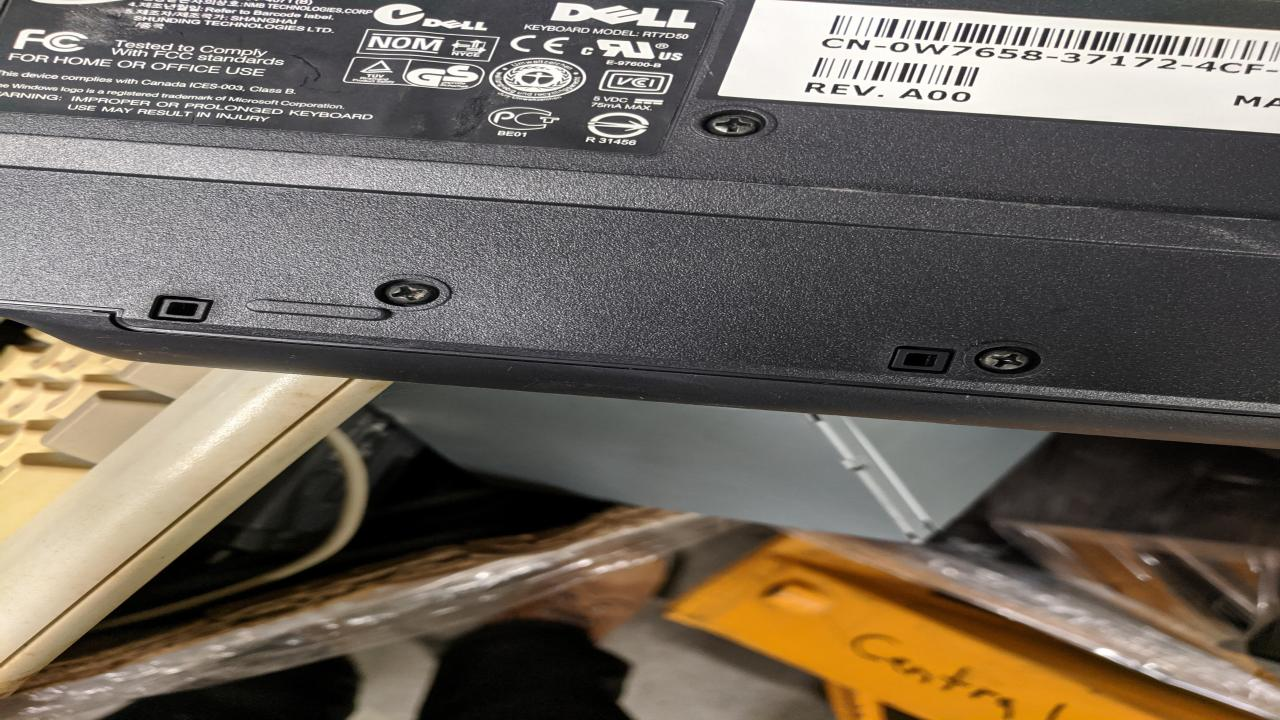CRS: (372, 278, 445, 308), (696, 109, 766, 138), (972, 348, 1036, 374)
